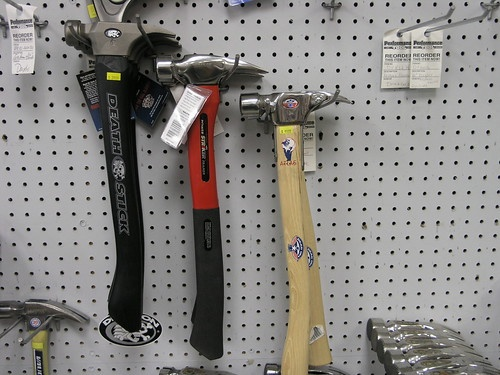hammer: (240, 89, 363, 375), (153, 50, 266, 358), (63, 16, 171, 322), (1, 297, 89, 375)
